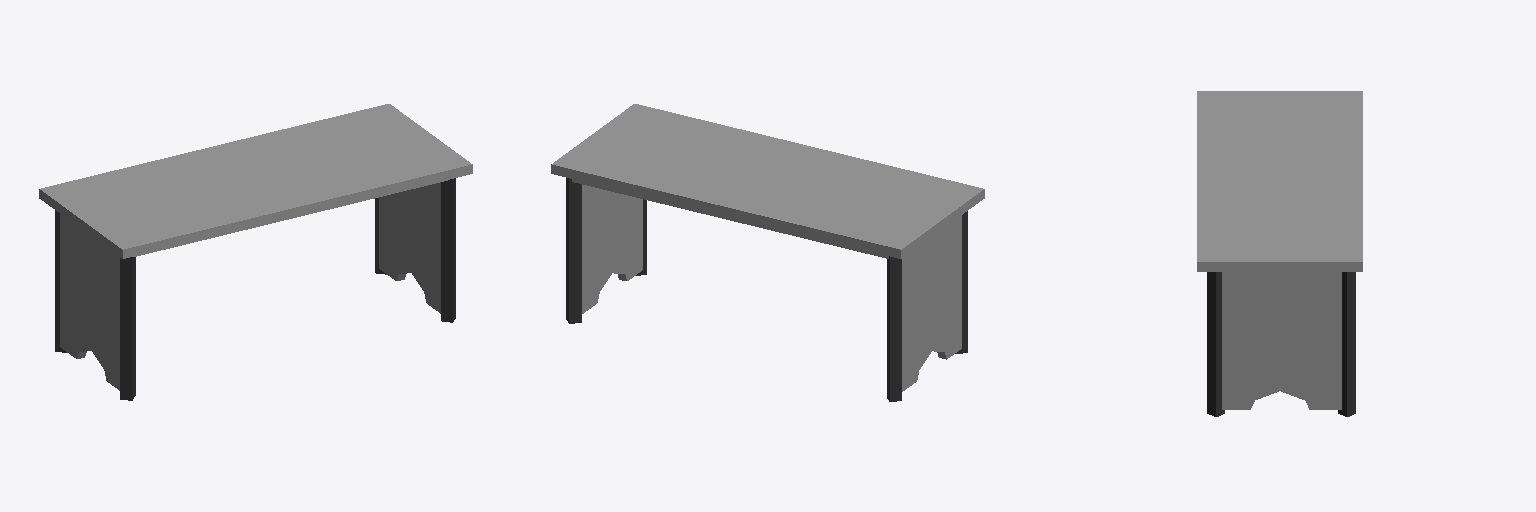
The model's file is table.obj.
The picture shows the model from 3 angles: view 1: azimuth 30°, elevation 25°; view 2: azimuth 150°, elevation 25°; view 3: azimuth 270°, elevation 25°; orthographic projection.
Parts seen in each view (by area): view 1: Boolean_8.001, Cylinder_1_1.004, Cylinder_1.004, Cylinder_1_2.004; view 2: Boolean_8.001, Cylinder_1_3.004, Cylinder_1_2.004, Cylinder_1_1.004; view 3: Boolean_8.001, Cylinder_1.004, Cylinder_1_3.004.
Boxes of the visible parts, <box> form: Boolean_8.001: <box>39,104,472,390</box>; Cylinder_1_1.004: <box>120,257,135,400</box>; Cylinder_1.004: <box>441,178,455,322</box>; Cylinder_1_2.004: <box>55,210,66,352</box>; Boolean_8.001: <box>551,104,984,391</box>; Cylinder_1_3.004: <box>566,178,581,323</box>; Cylinder_1_2.004: <box>887,256,901,401</box>; Cylinder_1_1.004: <box>955,211,967,353</box>; Boolean_8.001: <box>1197,91,1362,409</box>; Cylinder_1.004: <box>1207,272,1224,416</box>; Cylinder_1_3.004: <box>1338,272,1355,416</box>.
Size of the model in its own units: 3.86 by 1.67 by 1.59.